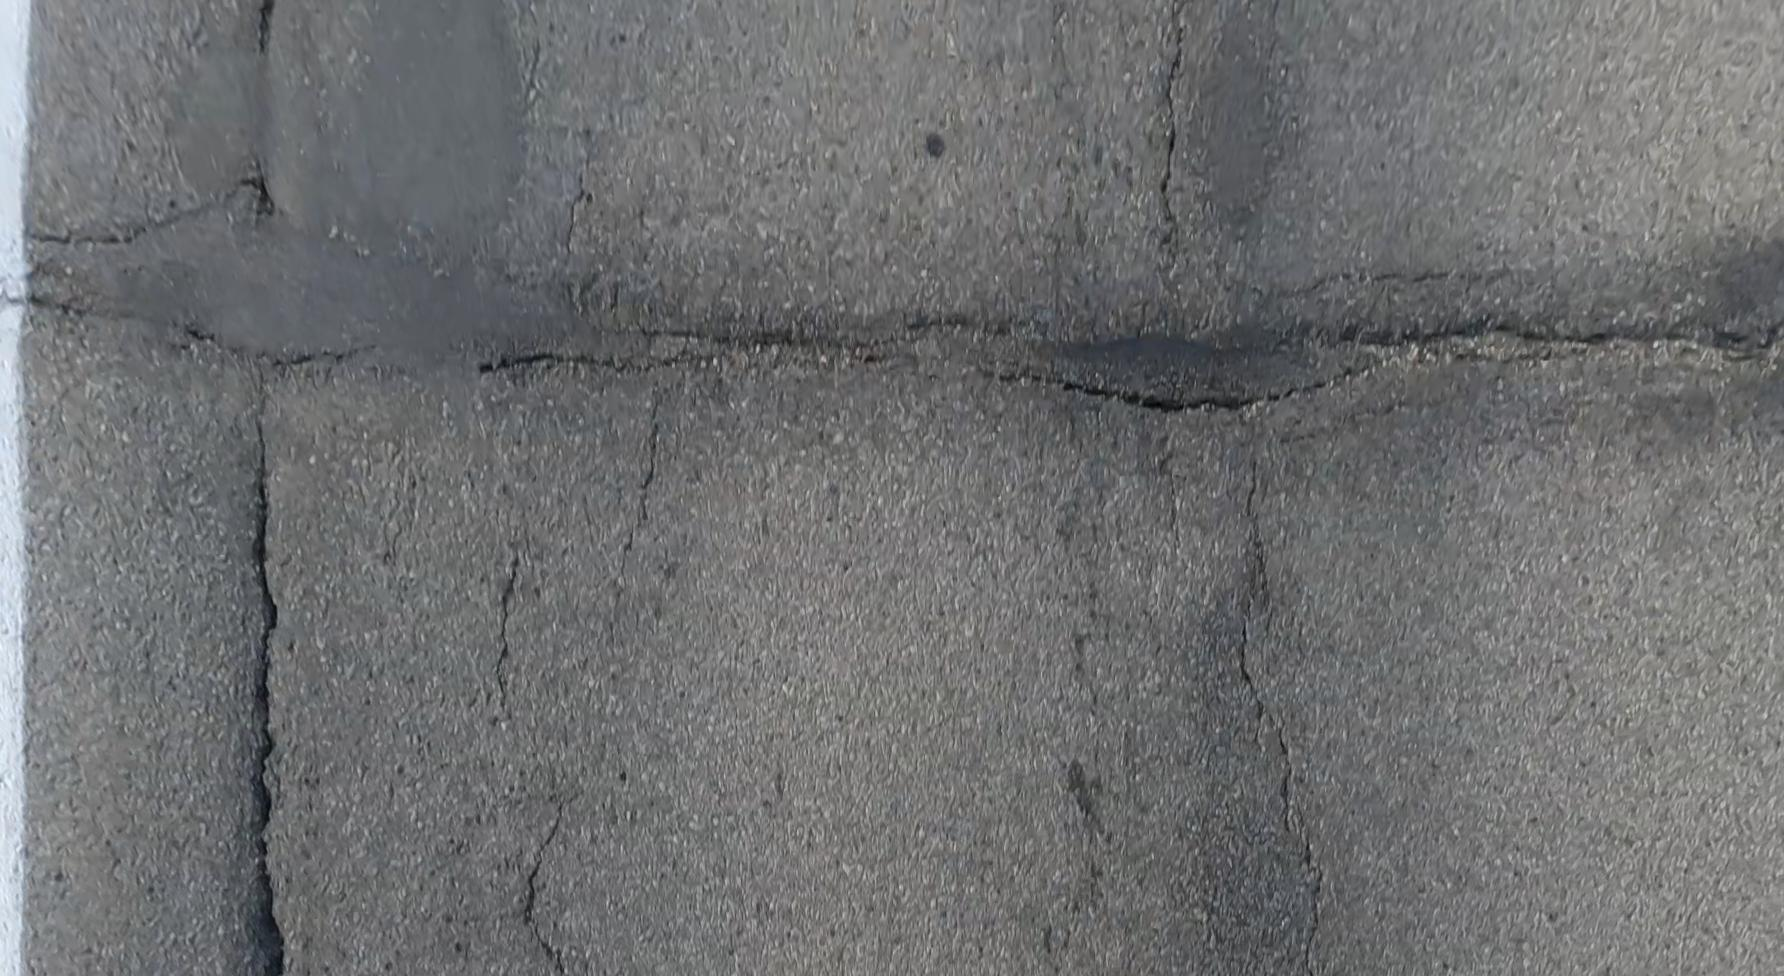pothole_patch_poor: (34, 0, 621, 357), (959, 297, 1378, 423)
